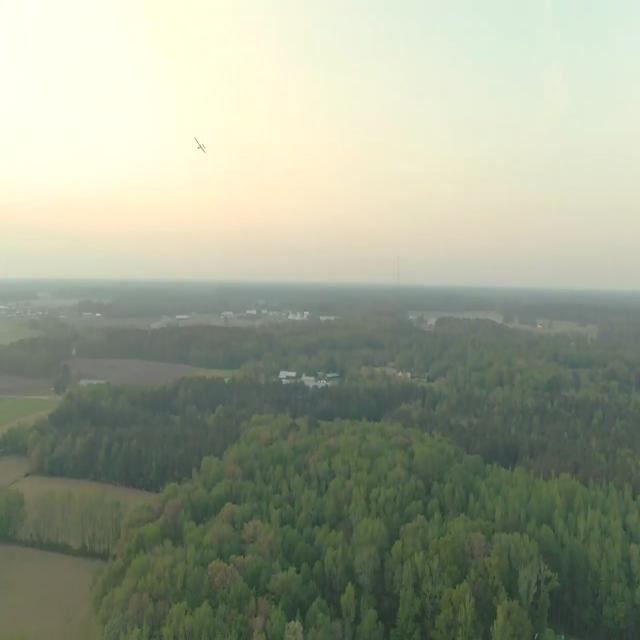iha: (185, 135, 203, 156)
